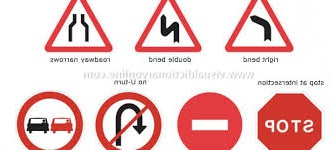Double_bend_left: (134, 1, 202, 53)
